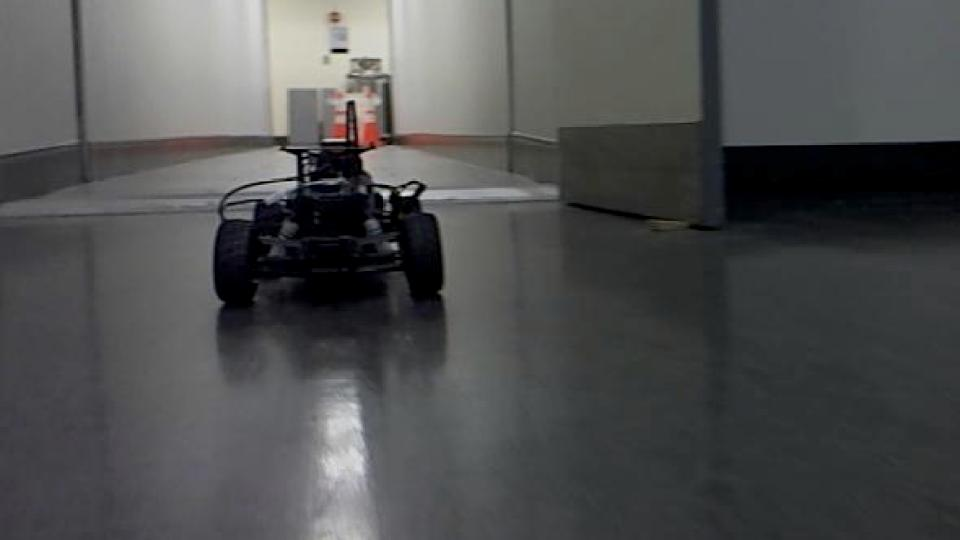car: (210, 98, 449, 309)
